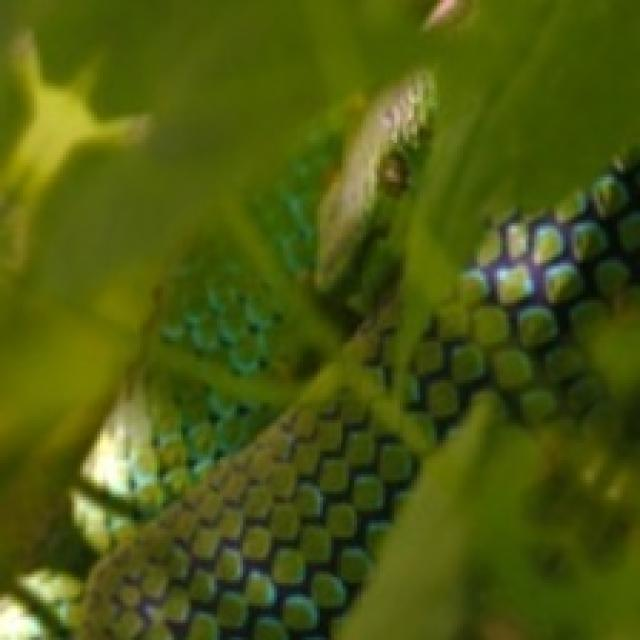philippine pitviper: (80, 151, 637, 637), (70, 75, 428, 554), (83, 423, 286, 637)
